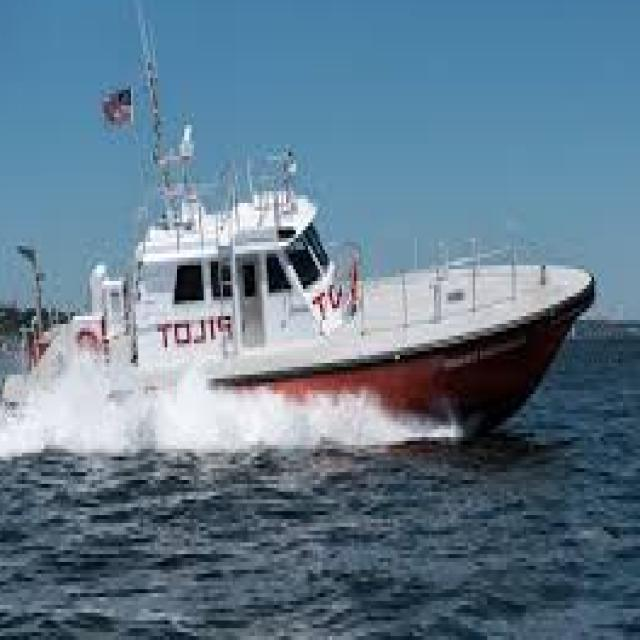houseboat: (0, 116, 597, 464)
